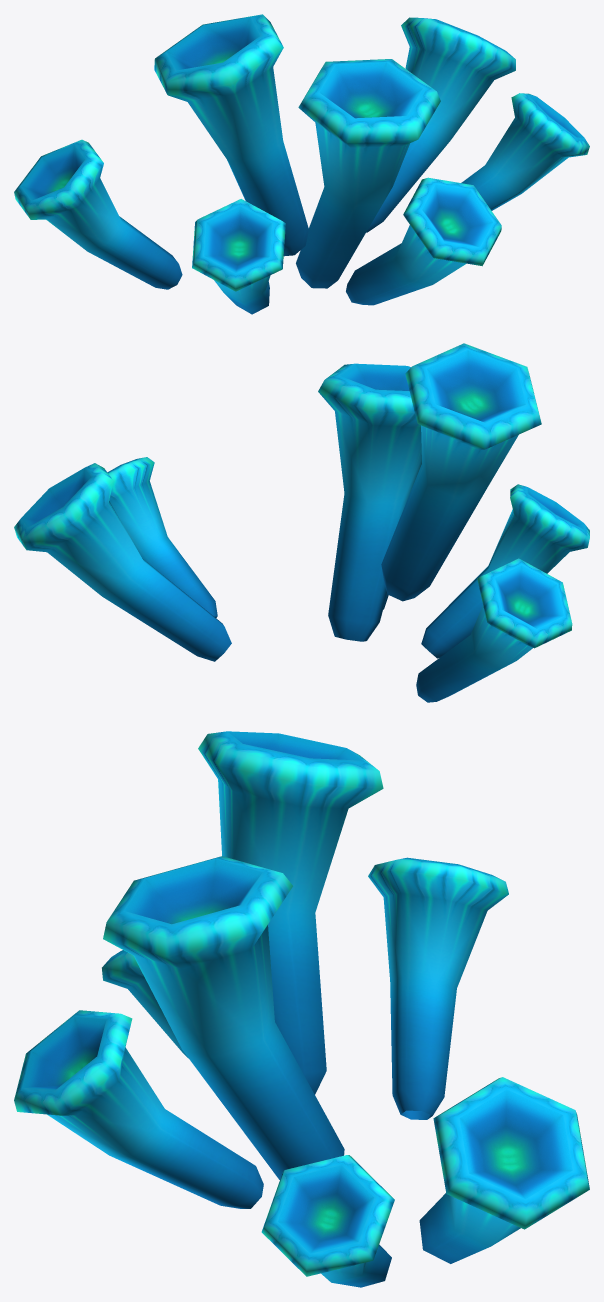
The picture shows the model from 3 angles, top to bottom: view 1: azimuth 30°, elevation 25°; view 2: azimuth 150°, elevation 25°; view 3: azimuth 270°, elevation 25°; orthographic projection. The views are drawn at different scales.
Parts seen in each view (by area): view 1: wk_s02_49a; view 2: wk_s02_49a; view 3: wk_s02_49a.
Boxes of the visible parts, left/top/right/bottom form: wk_s02_49a: left=14, top=14, right=589, bottom=314; wk_s02_49a: left=14, top=343, right=589, bottom=702; wk_s02_49a: left=14, top=731, right=589, bottom=1287.
Size of the model in its own units: 0.7984 by 0.5631 by 0.4314.
Materials: 1 (1 with a texture image).
